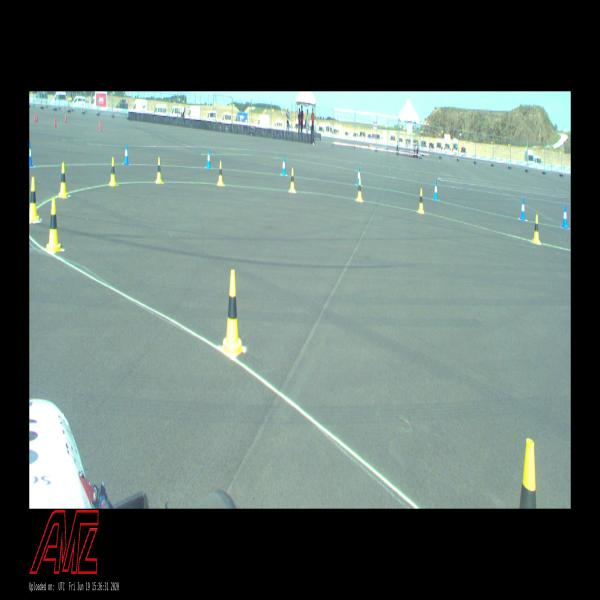blue_cone: (562, 206, 568, 228), (520, 197, 525, 220), (124, 143, 129, 164), (29, 142, 33, 166), (434, 180, 438, 200), (282, 157, 286, 176), (207, 149, 211, 168), (357, 167, 361, 185)
yellow_cone: (222, 269, 242, 355), (519, 440, 536, 508), (46, 199, 61, 250), (30, 177, 40, 221), (58, 162, 68, 197), (109, 158, 117, 185), (533, 215, 540, 243), (217, 160, 223, 186), (156, 157, 162, 183), (418, 189, 424, 214), (290, 168, 295, 193), (357, 178, 362, 202)
